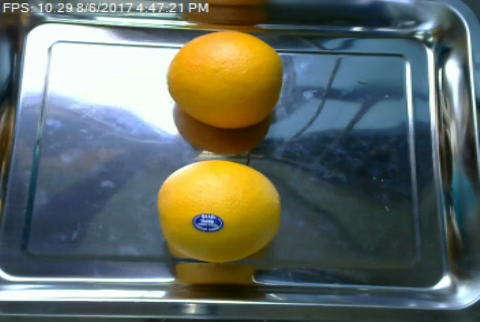Orange: (156, 159, 282, 262), (166, 30, 282, 127)
